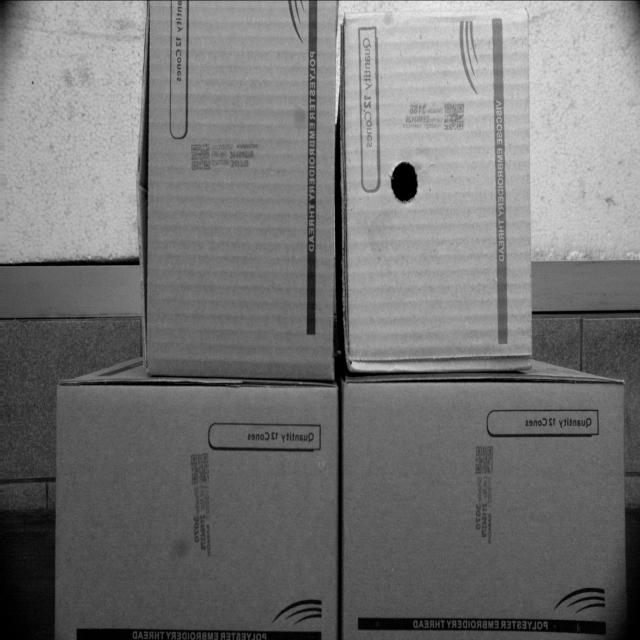cardboxes: (139, 0, 339, 380), (53, 380, 340, 639), (342, 383, 623, 639), (342, 11, 532, 371)
